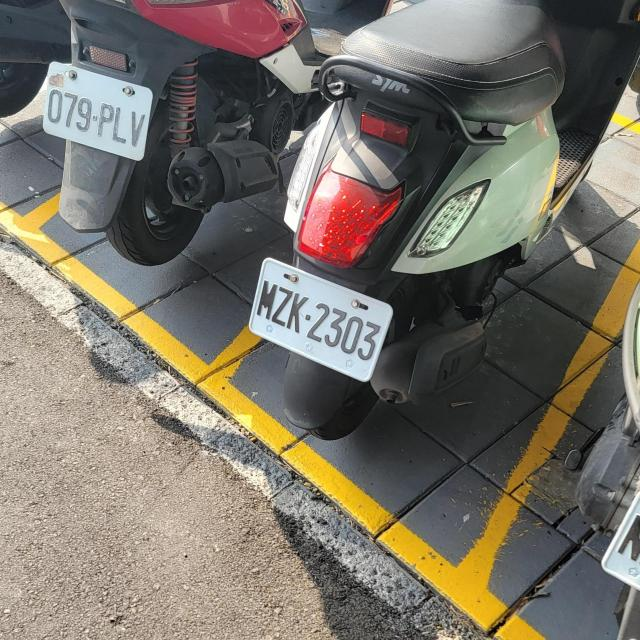W: (244, 255, 399, 385), (42, 61, 156, 162), (594, 516, 640, 632)
